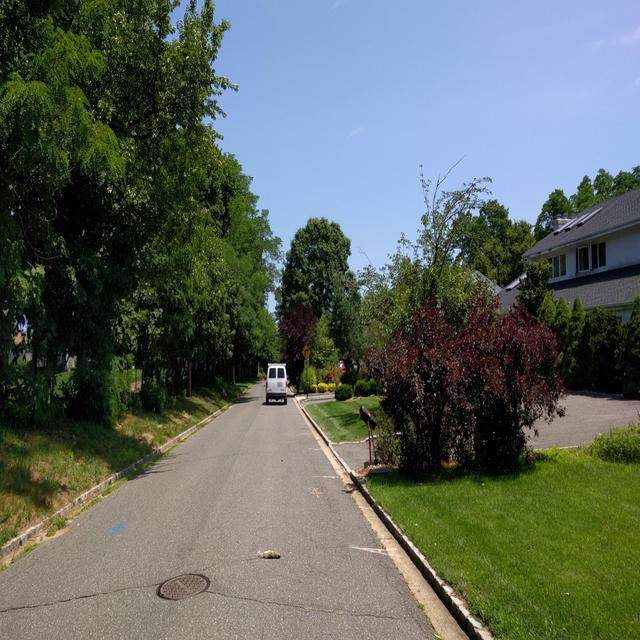Car: (266, 363, 286, 404), (336, 360, 345, 374)
Manhole: (155, 571, 210, 600)
